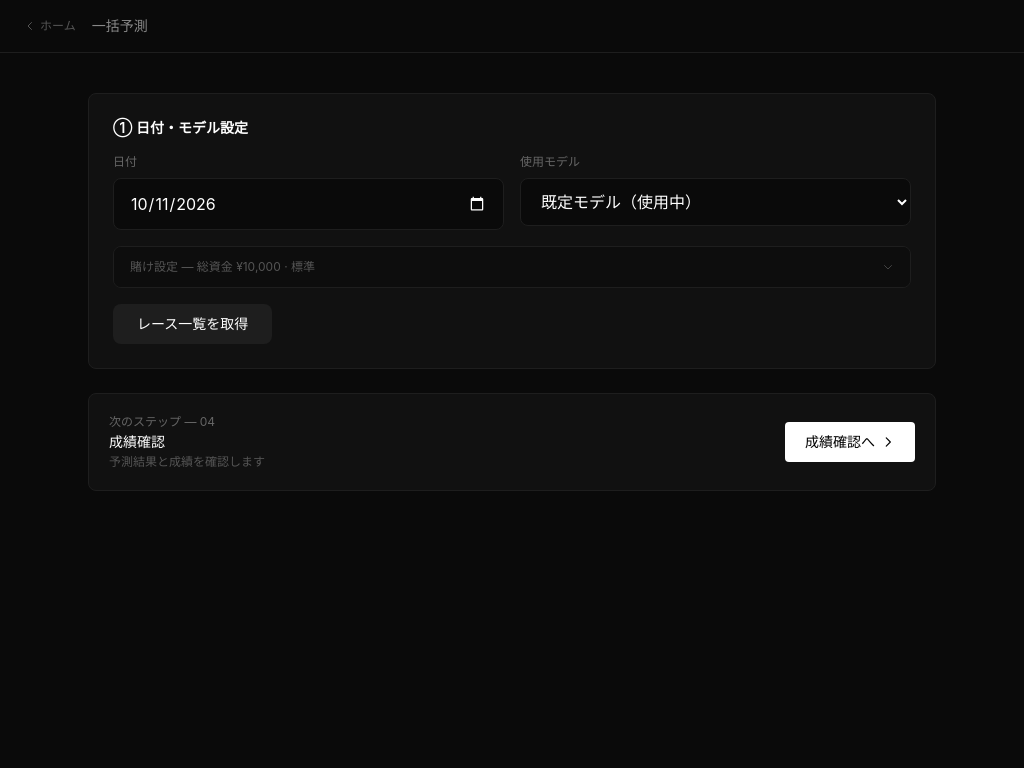
batch reference expectation display only › hides the number when the trial expires without re-predicting or discarding rankings
The width and height of the screenshot is (1024, 768).
Click the button "レース一覧を取得" at {"x": 193, "y": 324}, box [113,304,272,344]
(page scrolled)
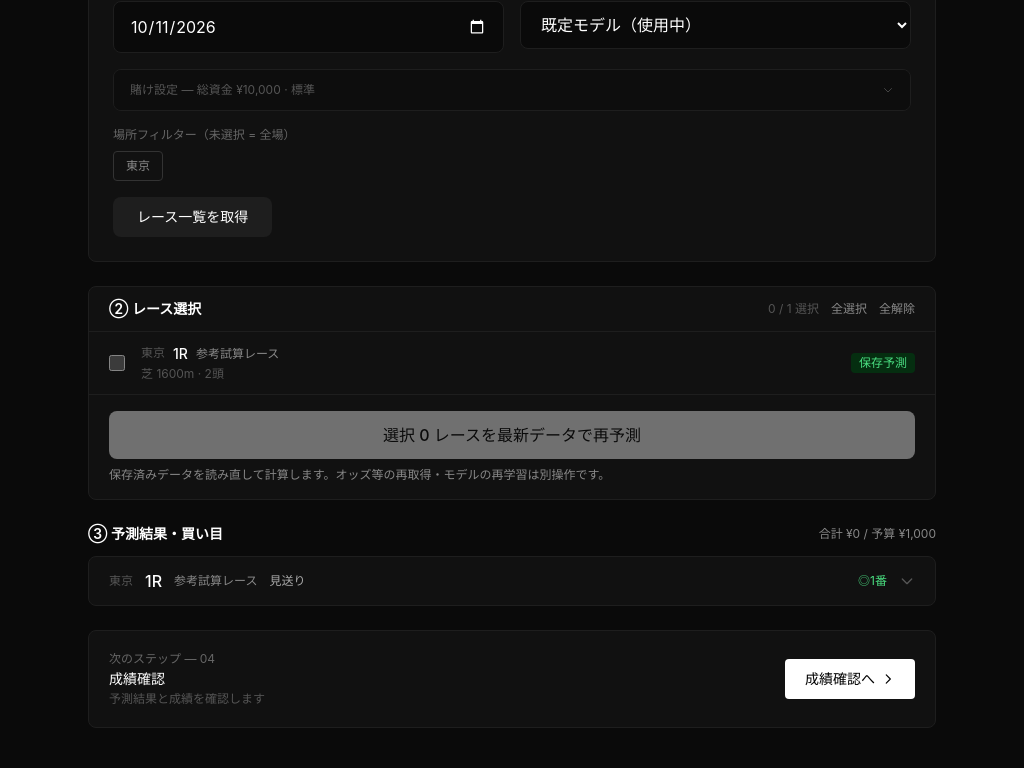
Click the button "東京 1R 参考試算レース 見送り ◎1番" at {"x": 216, "y": 580}, box [89,557,935,605]
Wait 300000 ms
(page scrolled)
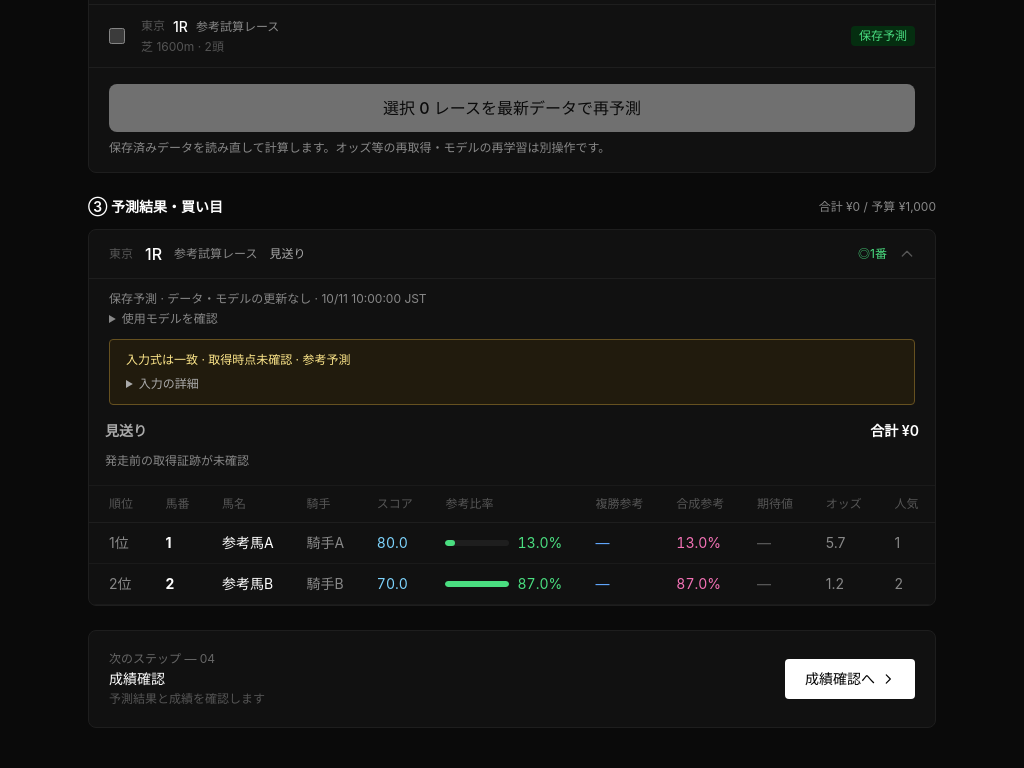
Check: the 2nd text "0.74" is shown, box [741,522,810,564]
Check: the text "参考馬A" is shown, box [206,522,290,564]
Check: the text "13.0%" is shown, box [518,533,562,553]
